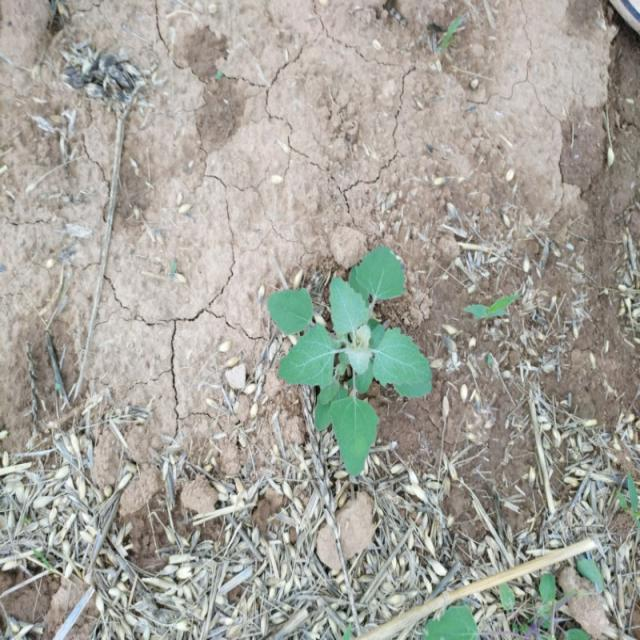goosefoots: (254, 225, 440, 468)
